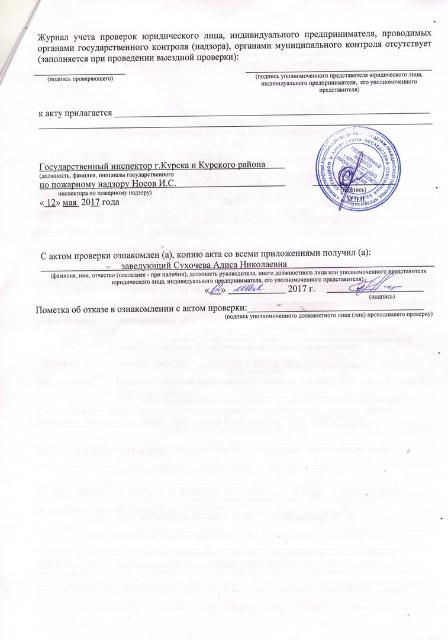stamp: (316, 126, 402, 212)
